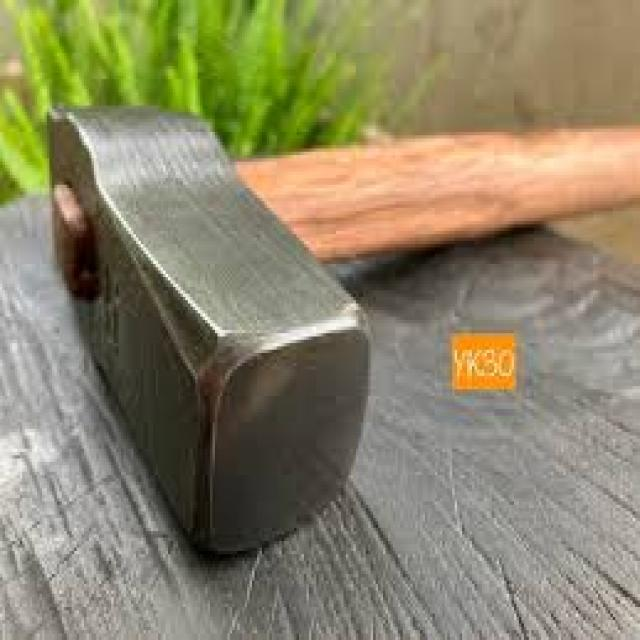hammer: (32, 80, 640, 560)
